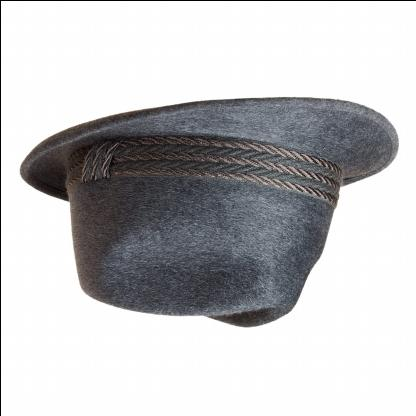hat: (11, 86, 404, 330)
